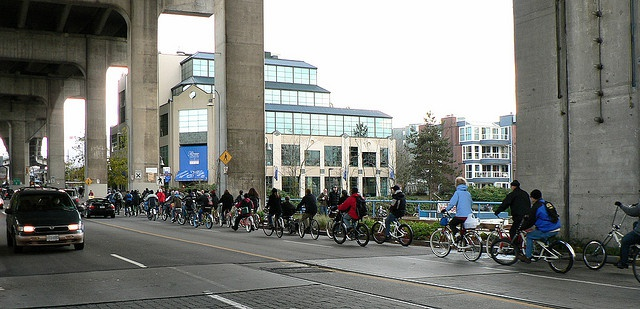non-vehicle: (582, 202, 640, 278), (490, 223, 574, 272), (428, 208, 484, 261), (331, 209, 373, 248), (371, 208, 412, 246), (297, 208, 319, 239), (262, 208, 285, 237), (192, 203, 214, 230), (175, 198, 195, 226), (215, 202, 231, 227), (238, 212, 253, 232), (230, 208, 238, 226), (252, 212, 259, 229)
